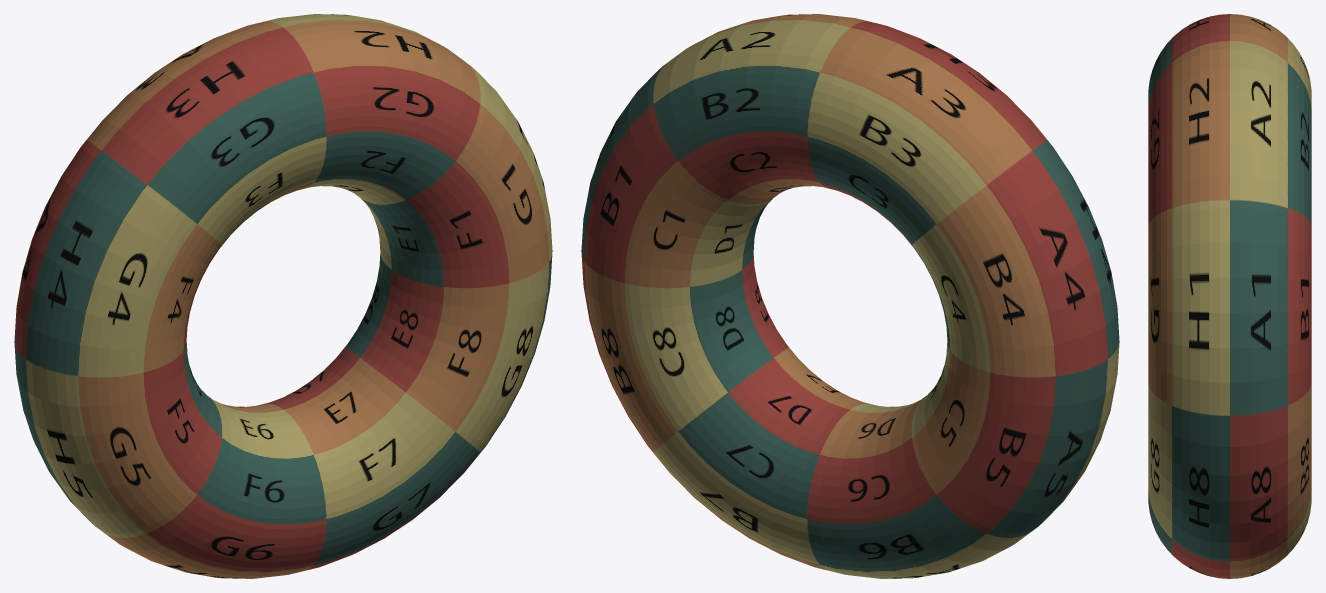
Rendered from texture_torus_R11_r19.glb.
The picture shows the model from 3 angles, left to right: view 1: azimuth 30°, elevation 25°; view 2: azimuth 150°, elevation 25°; view 3: azimuth 270°, elevation 25°; orthographic projection. The views are drawn at different scales.
Parts seen in each view (by area): view 1: world; view 2: world; view 3: world.
Boxes of the visible parts, x1,y1,x2,y2 form: world: [14, 14, 552, 578]; world: [581, 14, 1119, 578]; world: [1148, 14, 1311, 578].
Size of the model in its own units: 24.4 by 24.35 by 7.05.
1 material, 1 textured.
